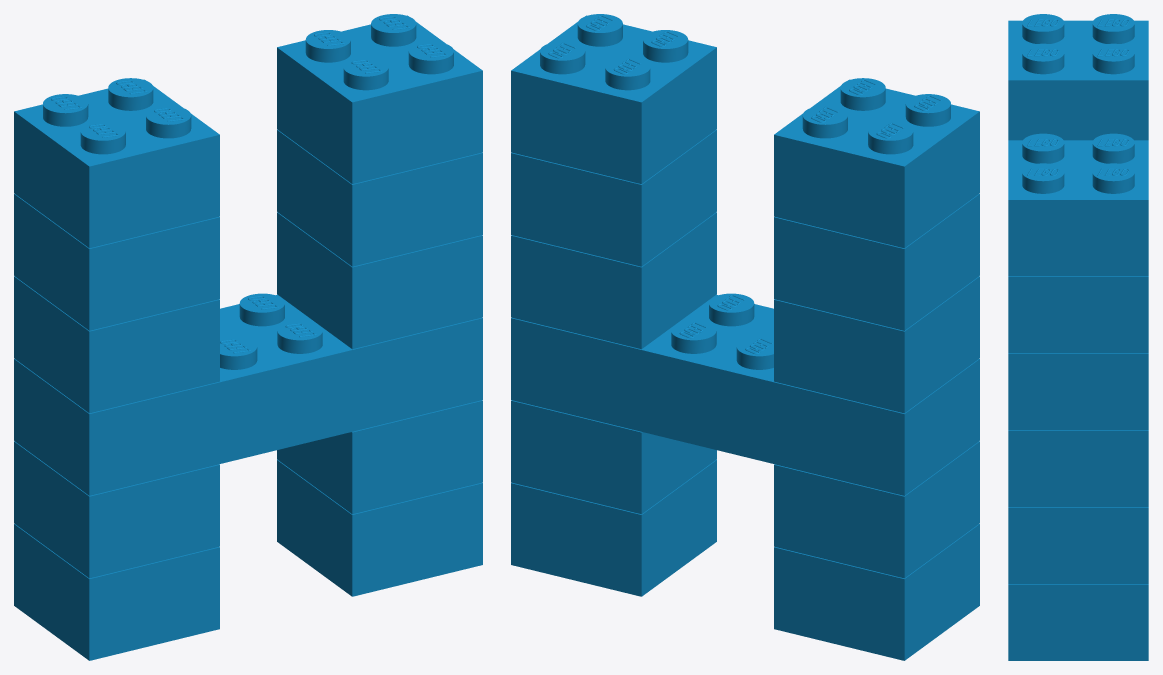
3 views of the same model, side by side, from view 1: azimuth 30°, elevation 25°; view 2: azimuth 150°, elevation 25°; view 3: azimuth 270°, elevation 25° (orthographic). The views are drawn at different scales.
Parts seen in each view (by area): view 1: Inner-Node-H_dot_io-9, Inner-Node-H_dot_io-6, Inner-Node-H_dot_io-7, Inner-Node-H_dot_io-5, Inner-Node-H_dot_io-8, Inner-Node-H_dot_io-10, Inner-Node-H_dot_io-2, Inner-Node-H_dot_io-4, Inner-Node-H_dot_io-0, Inner-Node-H_dot_io-1, Inner-Node-H_dot_io-3; view 2: Inner-Node-H_dot_io-9, Inner-Node-H_dot_io-6, Inner-Node-H_dot_io-7, Inner-Node-H_dot_io-5, Inner-Node-H_dot_io-8, Inner-Node-H_dot_io-10, Inner-Node-H_dot_io-2, Inner-Node-H_dot_io-4, Inner-Node-H_dot_io-0, Inner-Node-H_dot_io-1, Inner-Node-H_dot_io-3; view 3: Inner-Node-H_dot_io-7, Inner-Node-H_dot_io-6, Inner-Node-H_dot_io-0, Inner-Node-H_dot_io-3, Inner-Node-H_dot_io-4, Inner-Node-H_dot_io-5, Inner-Node-H_dot_io-9.
Part boxes in pixels (x1=…): Inner-Node-H_dot_io-9: x1=14, y1=293, x2=482, y2=495; Inner-Node-H_dot_io-6: x1=14, y1=78, x2=219, y2=248; Inner-Node-H_dot_io-7: x1=277, y1=14, x2=482, y2=183; Inner-Node-H_dot_io-5: x1=277, y1=129, x2=482, y2=266; Inner-Node-H_dot_io-8: x1=14, y1=441, x2=219, y2=578; Inner-Node-H_dot_io-10: x1=14, y1=276, x2=219, y2=413; Inner-Node-H_dot_io-2: x1=14, y1=194, x2=219, y2=330; Inner-Node-H_dot_io-4: x1=277, y1=212, x2=482, y2=349; Inner-Node-H_dot_io-0: x1=277, y1=459, x2=482, y2=596; Inner-Node-H_dot_io-1: x1=14, y1=524, x2=219, y2=660; Inner-Node-H_dot_io-3: x1=277, y1=400, x2=482, y2=514; Inner-Node-H_dot_io-9: x1=511, y1=293, x2=979, y2=495; Inner-Node-H_dot_io-6: x1=774, y1=78, x2=979, y2=248; Inner-Node-H_dot_io-7: x1=511, y1=14, x2=716, y2=183; Inner-Node-H_dot_io-5: x1=511, y1=129, x2=716, y2=266; Inner-Node-H_dot_io-8: x1=774, y1=441, x2=979, y2=578; Inner-Node-H_dot_io-10: x1=774, y1=276, x2=979, y2=413; Inner-Node-H_dot_io-2: x1=774, y1=194, x2=979, y2=330; Inner-Node-H_dot_io-4: x1=511, y1=212, x2=716, y2=349; Inner-Node-H_dot_io-0: x1=511, y1=459, x2=716, y2=596; Inner-Node-H_dot_io-1: x1=774, y1=524, x2=979, y2=660; Inner-Node-H_dot_io-3: x1=511, y1=400, x2=716, y2=514; Inner-Node-H_dot_io-7: x1=1008, y1=133, x2=1148, y2=275; Inner-Node-H_dot_io-6: x1=1008, y1=14, x2=1148, y2=140; Inner-Node-H_dot_io-0: x1=1008, y1=584, x2=1148, y2=660; Inner-Node-H_dot_io-3: x1=1008, y1=507, x2=1148, y2=583; Inner-Node-H_dot_io-4: x1=1008, y1=353, x2=1148, y2=429; Inner-Node-H_dot_io-5: x1=1008, y1=276, x2=1148, y2=352; Inner-Node-H_dot_io-9: x1=1008, y1=430, x2=1148, y2=506.
Bounding box in the file's own units: 120 × 148 × 39.75.
